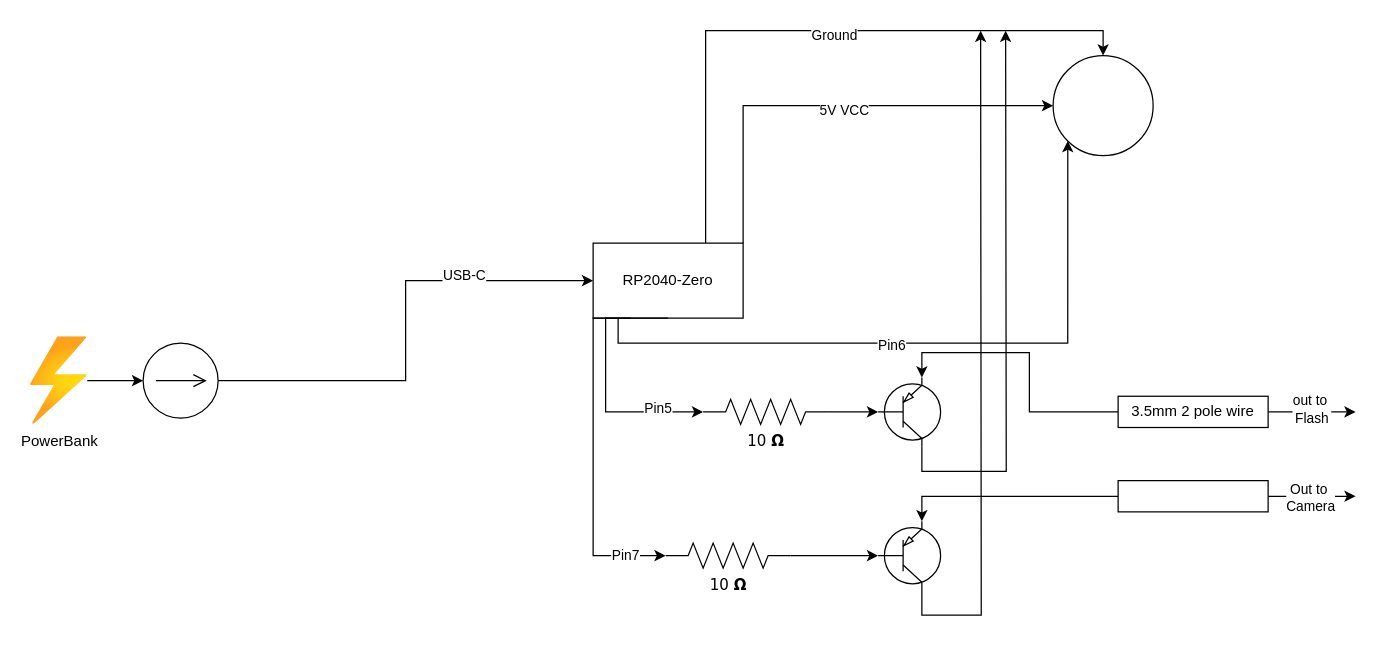
The diagram is 1389 pixels wide and 648 high, and some of its shapes have lost their labels. The shapes that lost their labels are listed below. From the top down, each one's box as (x1, y1, x2, y2) in pixels, then its label:
(1052, 54, 1153, 156): PIR
(1117, 479, 1268, 512): 2.5mm 2 pole wire
